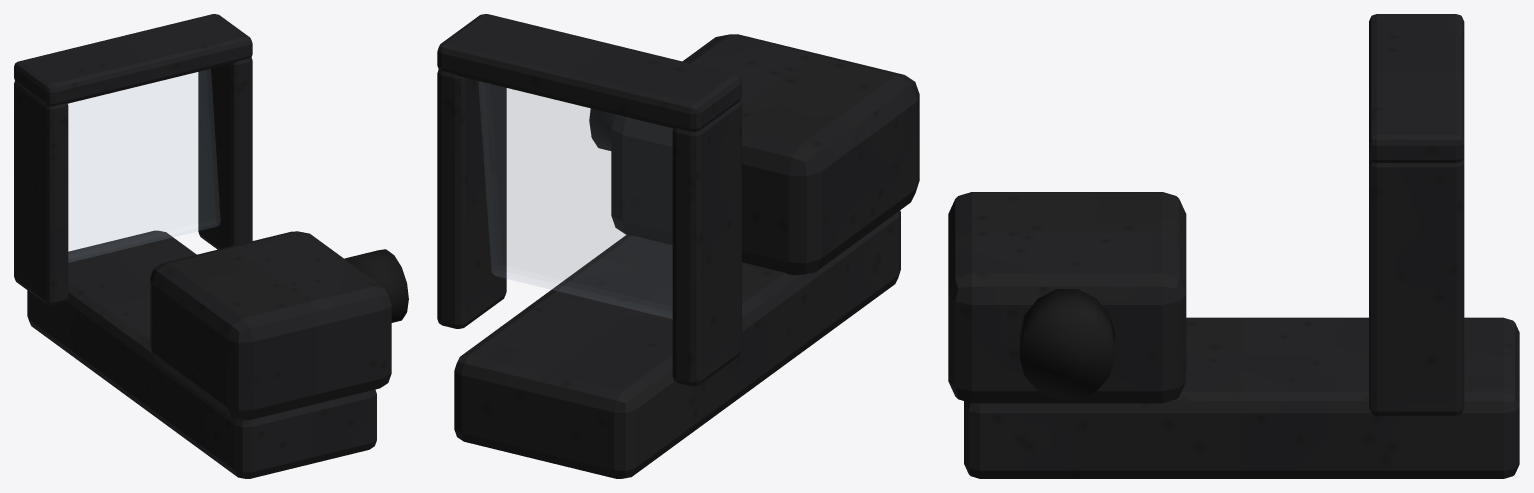
Rendered from sight_reflex.glb.
3 views of the same model, side by side, from view 1: azimuth 30°, elevation 25°; view 2: azimuth 150°, elevation 25°; view 3: azimuth 270°, elevation 25° (orthographic). The views are drawn at different scales.
Visible parts, largest first — view 1: body, base, window, bridge, post-1, post1, dial; view 2: base, body, window, bridge, post-1, post1, dial; view 3: base, body, post1, bridge, dial.
Boxes of the visible parts, <box> form: body: <box>150,231,391,420</box>; base: <box>27,230,376,478</box>; window: <box>68,69,219,261</box>; bridge: <box>14,14,252,106</box>; post-1: <box>14,81,68,305</box>; post1: <box>198,57,252,249</box>; dial: <box>344,249,408,322</box>; base: <box>454,210,900,478</box>; body: <box>611,34,919,275</box>; window: <box>479,82,672,318</box>; bridge: <box>437,14,741,131</box>; post-1: <box>672,100,741,386</box>; post1: <box>437,69,506,328</box>; dial: <box>589,108,615,150</box>; base: <box>964,317,1519,478</box>; body: <box>948,192,1186,403</box>; post1: <box>1369,157,1464,415</box>; bridge: <box>1369,14,1464,162</box>; dial: <box>1019,289,1114,399</box>.
Size of the model in its own units: 0.041 by 0.051 by 0.072.
Materials: 3 (2 with a texture image).
